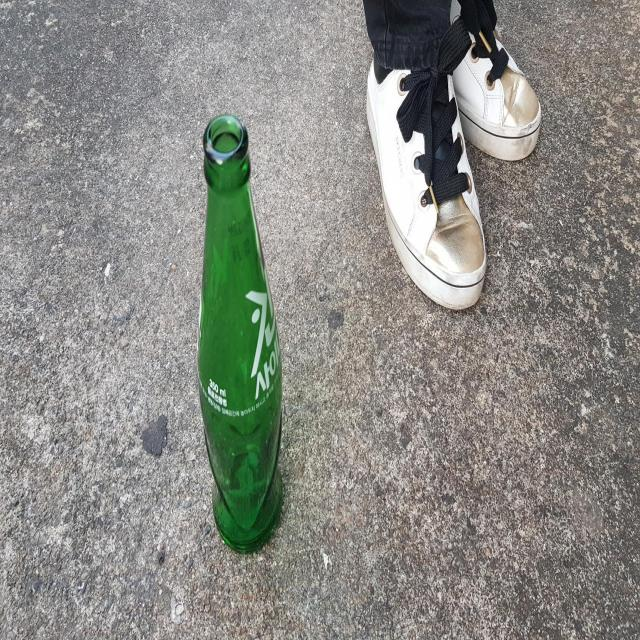glass: (197, 113, 282, 552)
